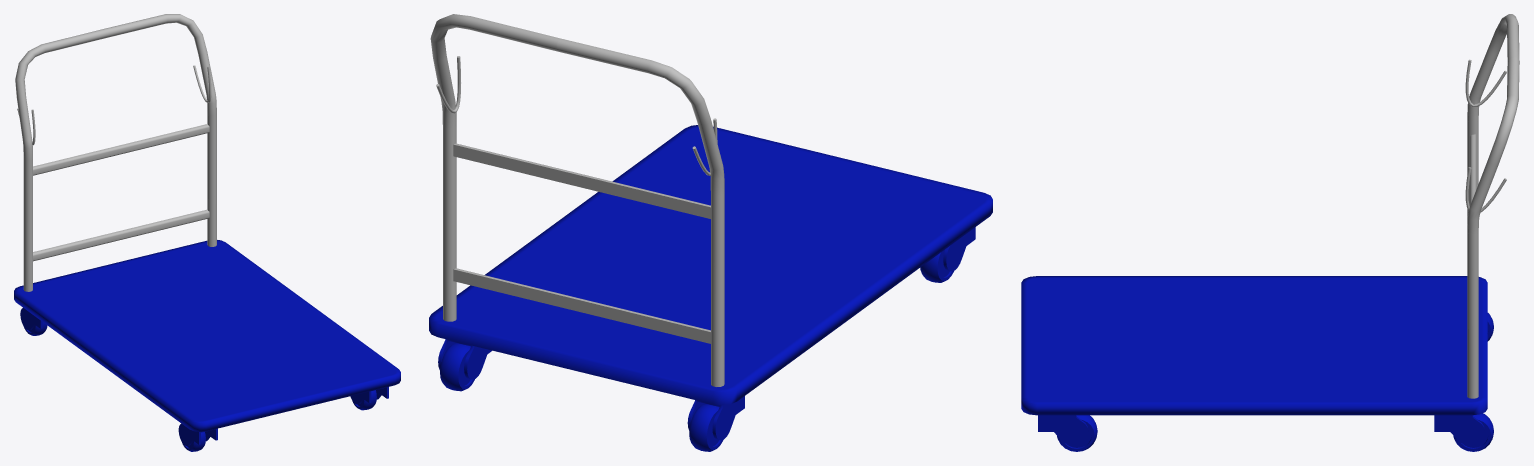
File: Platform_Trolley.fbx
3 views of the same model, side by side, from view 1: azimuth 30°, elevation 25°; view 2: azimuth 150°, elevation 25°; view 3: azimuth 270°, elevation 25° (orthographic). The views are drawn at different scales.
Visible parts, largest first — view 1: Platform_Truck; view 2: Platform_Truck; view 3: Platform_Truck.
Part boxes in pixels (bbox=[...]): Platform_Truck: bbox=[14, 14, 400, 451]; Platform_Truck: bbox=[429, 14, 992, 451]; Platform_Truck: bbox=[1021, 14, 1519, 451].
Bounding box in the file's own units: 81.23 × 101 × 133.
